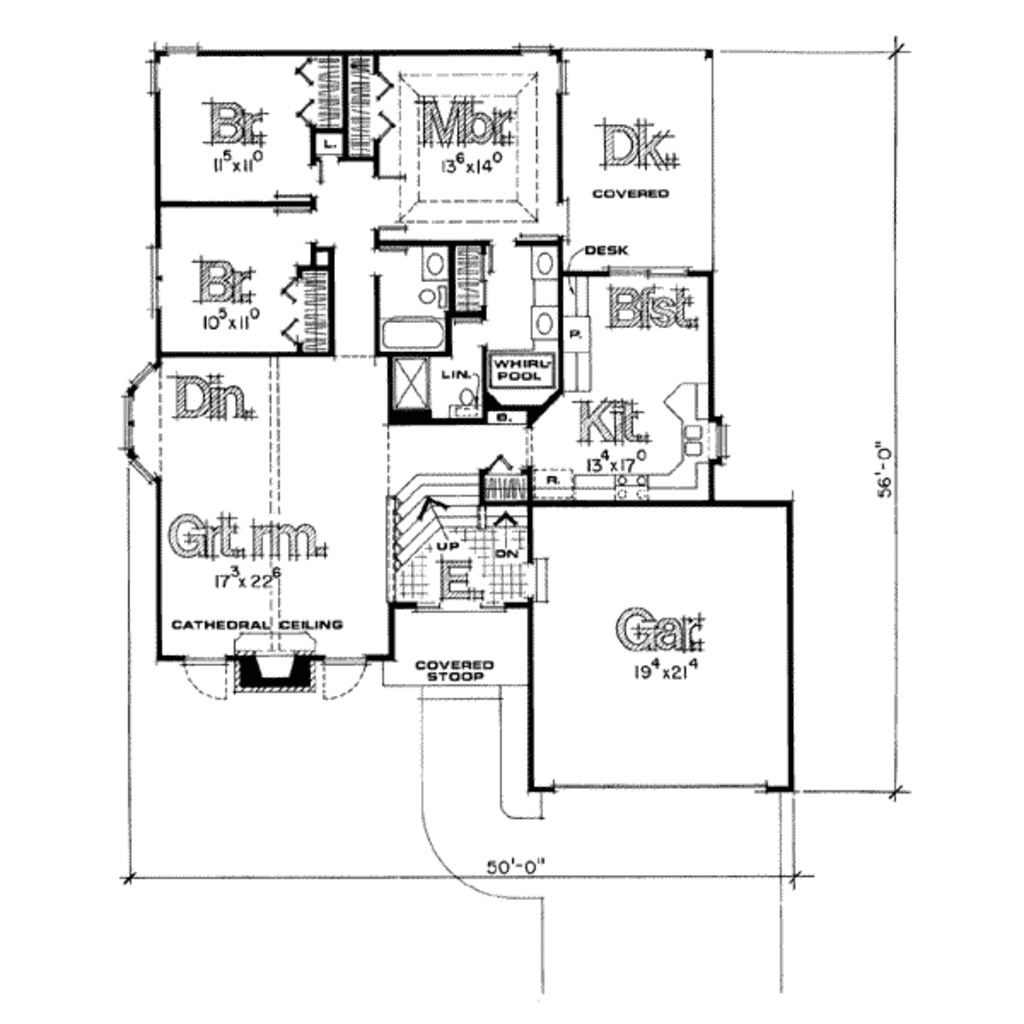door: (317, 650, 379, 705), (175, 652, 234, 699)
large_sink: (419, 284, 453, 310)
small_sink: (522, 299, 566, 347), (523, 243, 562, 277), (423, 245, 445, 283)
stairs: (395, 467, 482, 560)
tub: (379, 313, 445, 353)
twin_sink: (672, 418, 710, 458)
window: (115, 361, 165, 484), (142, 237, 166, 313)
